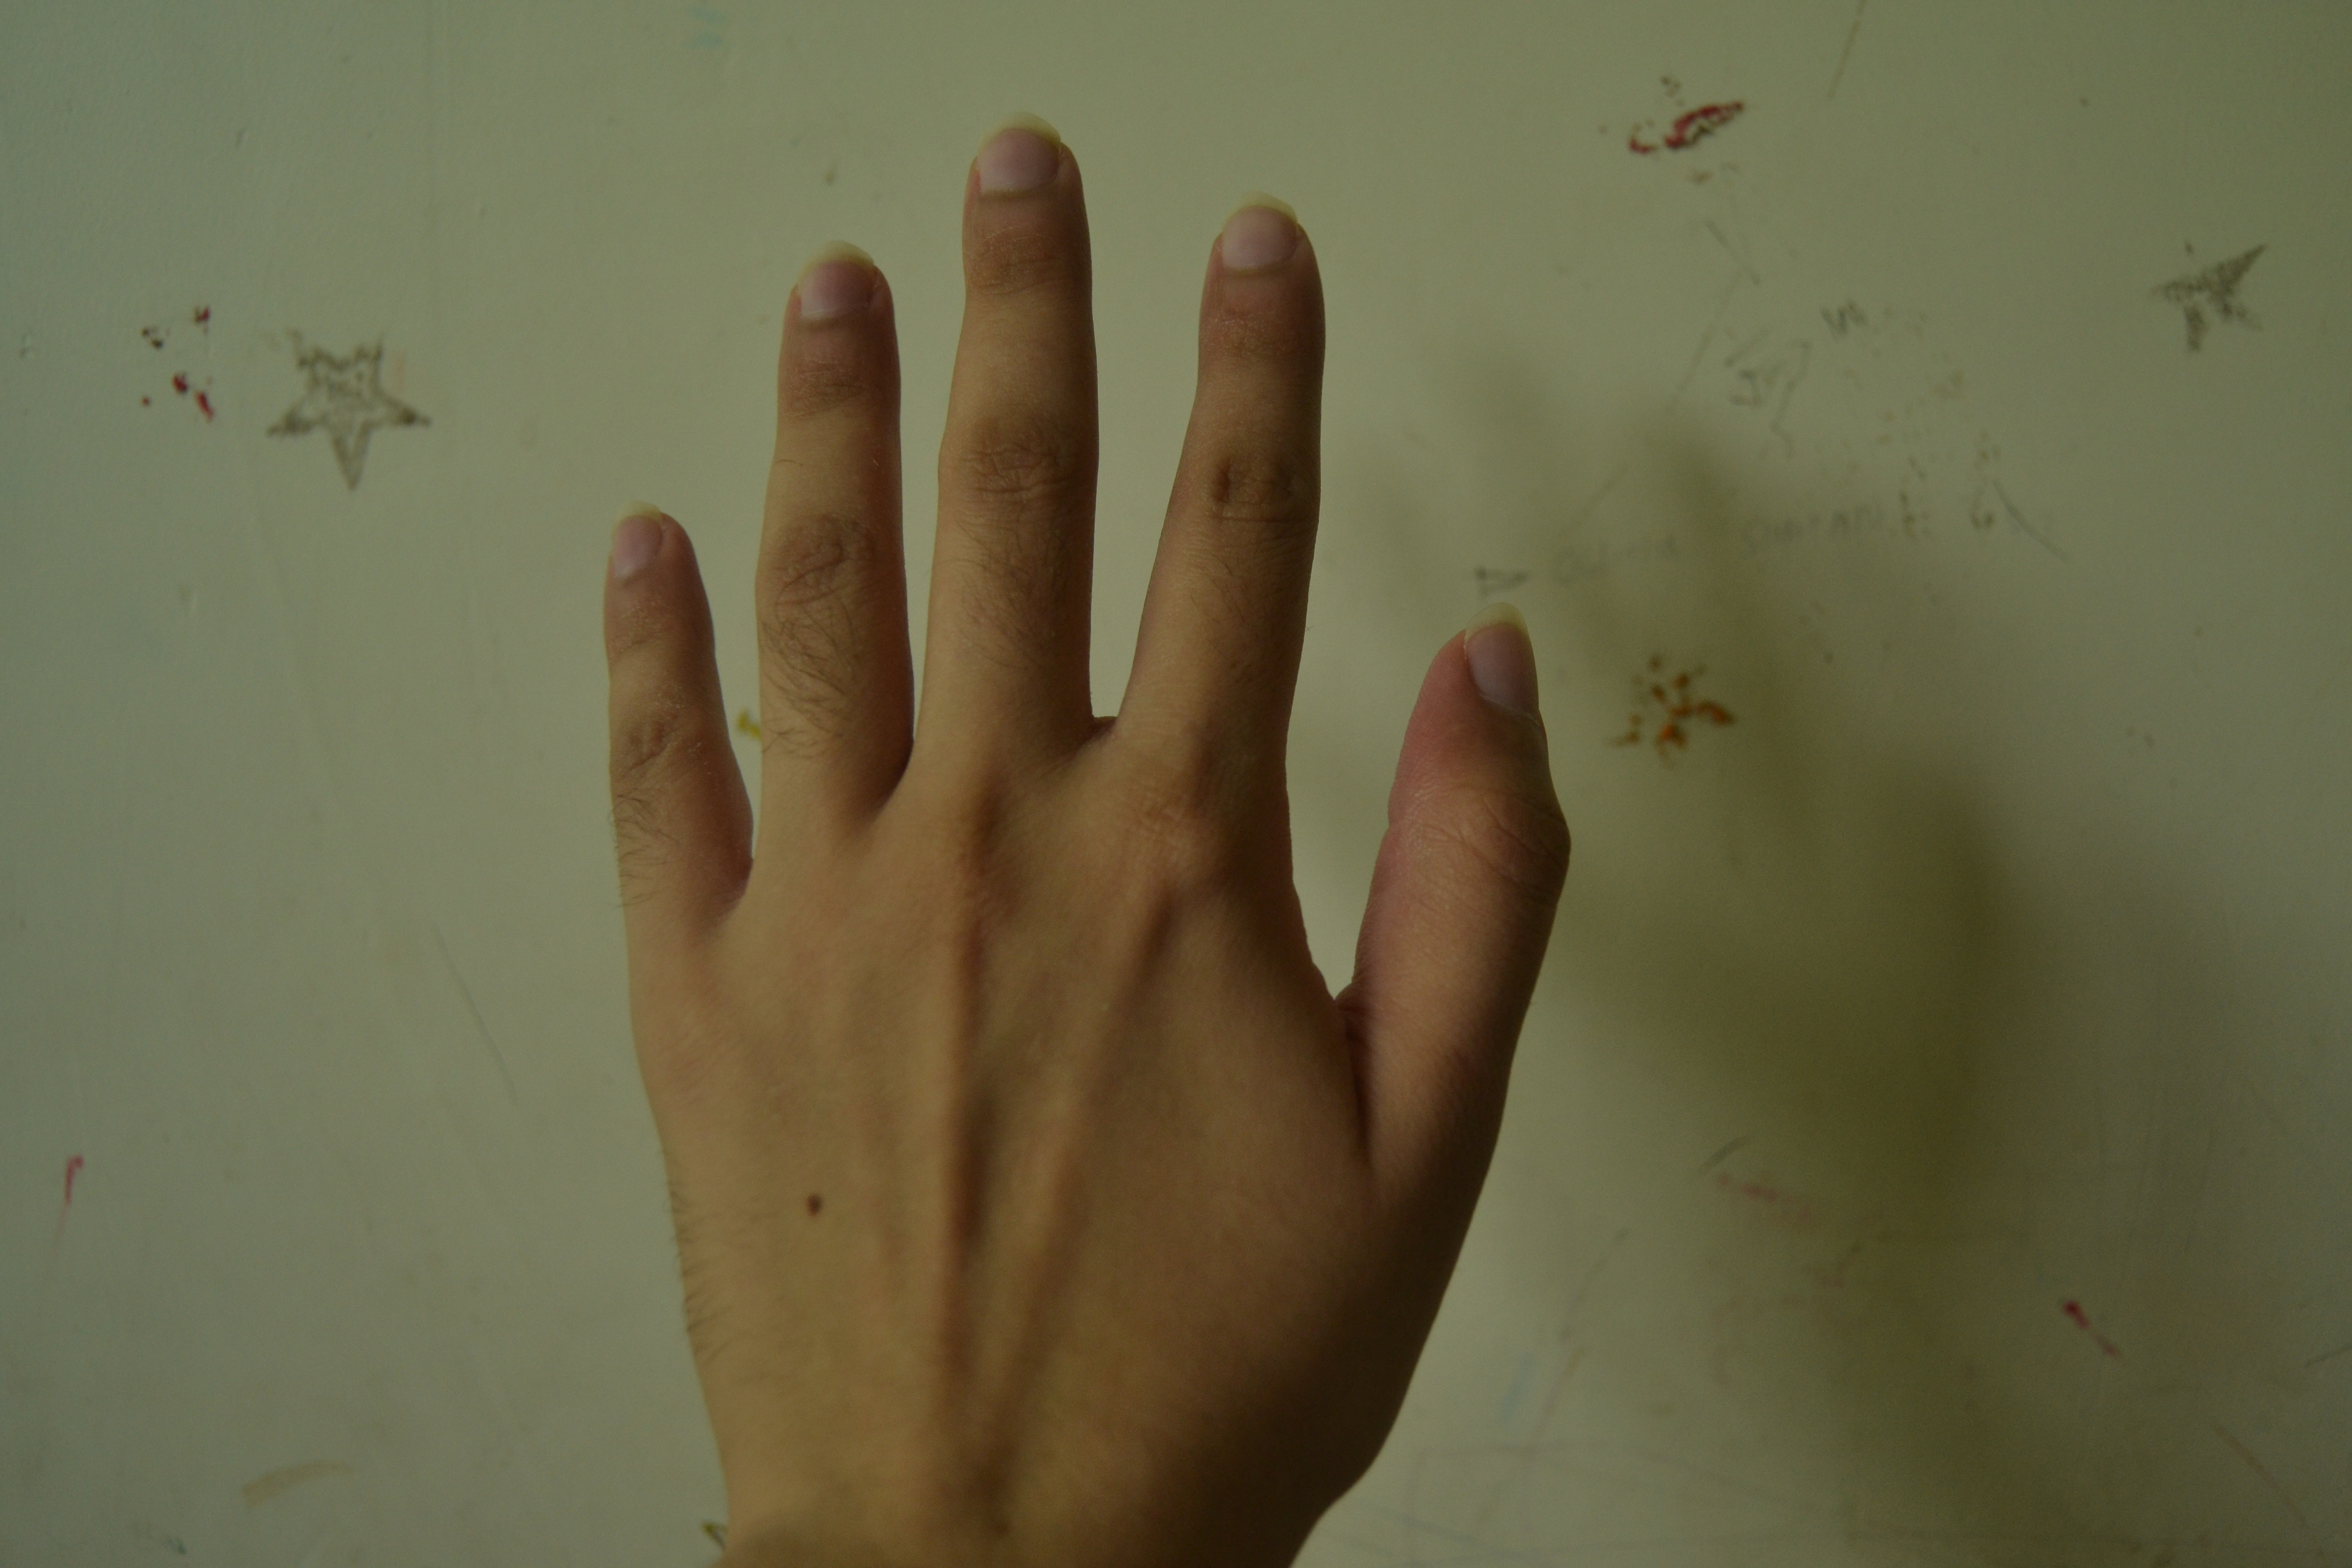move: (621, 117, 1610, 1568)
